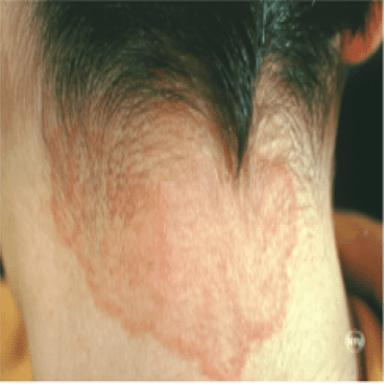Tinea-Corporis: (53, 103, 297, 379)
